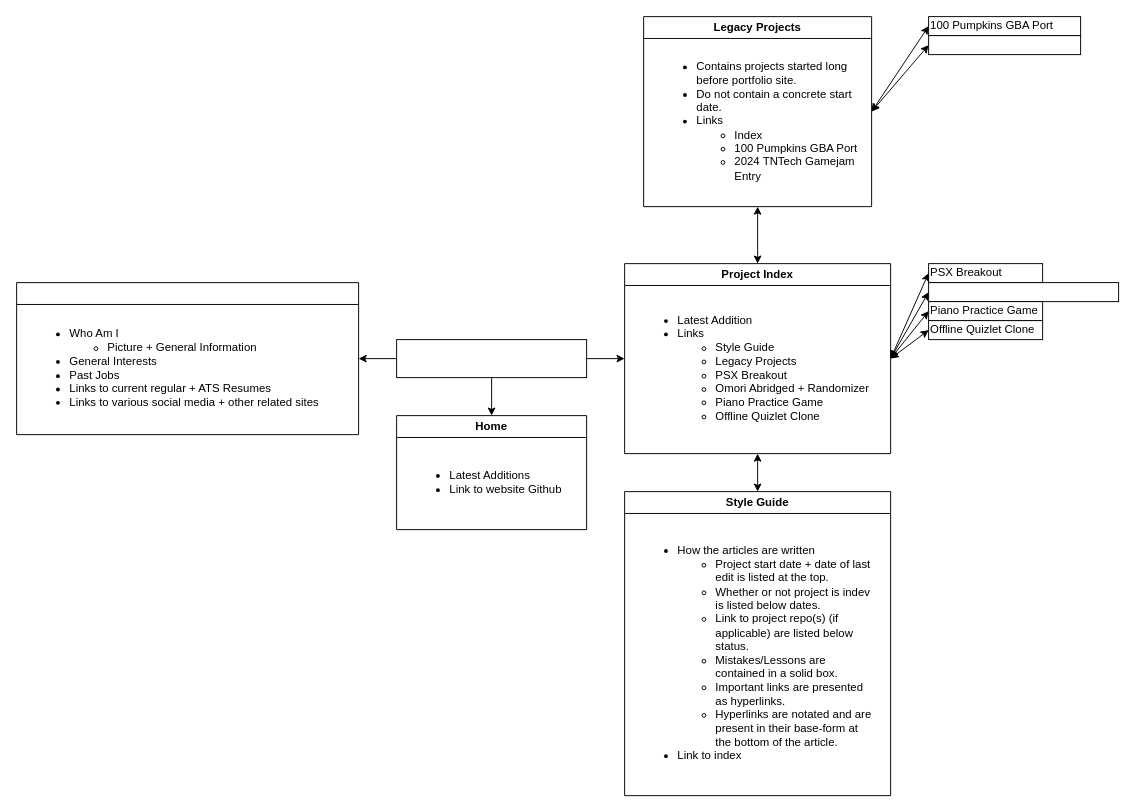
This 1135x812 diagram has some shape labels left out. Here are the shapes that lost their labels. From the top down, the box of each, then its label:
(928, 35, 1081, 55): 2024 TNTech Gamejam Entry
(928, 282, 1119, 302): Omori Abridged + Randomizer
(16, 282, 359, 435): About Me
(396, 339, 587, 378): Sidebar Links Home : About Me : Projects
